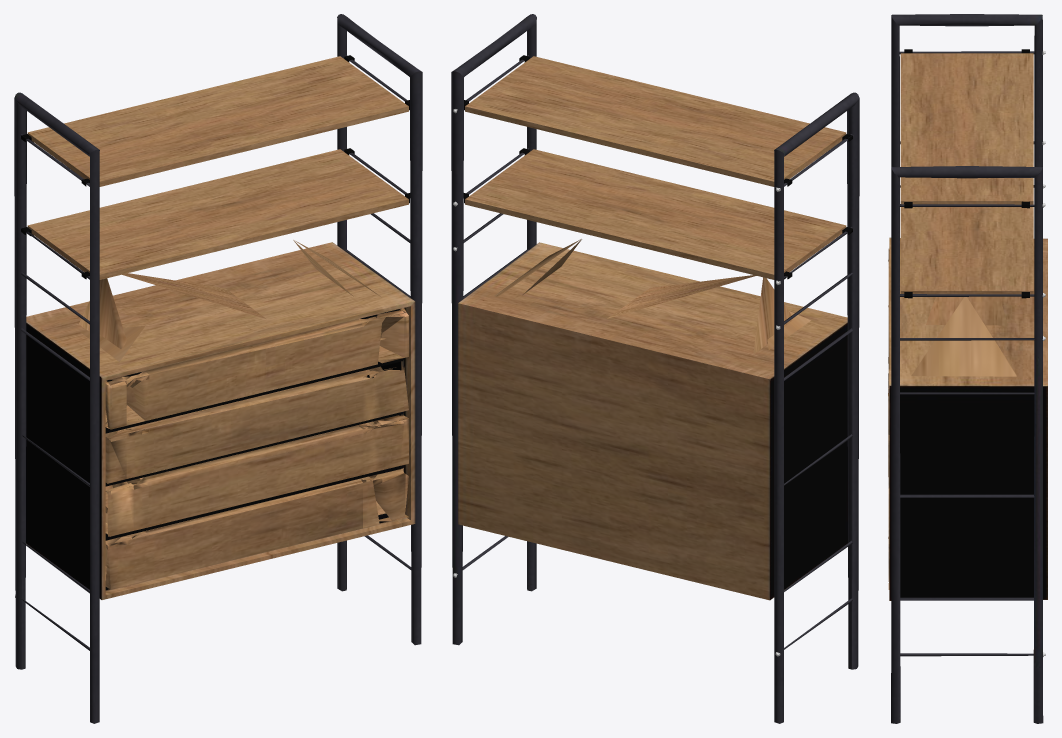
Rendered from drawer_cabinet.glb.
3 views of the same model, side by side, from view 1: azimuth 30°, elevation 25°; view 2: azimuth 150°, elevation 25°; view 3: azimuth 270°, elevation 25° (orthographic). The views are drawn at different scales.
Visible parts, largest first — view 1: drawer_cabinet, drawer_cabinet_drawer_01, drawer_cabinet_drawer_03, drawer_cabinet_drawer_04, drawer_cabinet_drawer_02; view 2: drawer_cabinet, drawer_cabinet_drawer_01; view 3: drawer_cabinet, drawer_cabinet_drawer_01.
Part boxes in pixels (left/top/right/bottom): drawer_cabinet: left=14, top=14, right=422, bottom=723; drawer_cabinet_drawer_01: left=79, top=240, right=408, bottom=429; drawer_cabinet_drawer_03: left=105, top=376, right=408, bottom=536; drawer_cabinet_drawer_04: left=105, top=468, right=408, bottom=589; drawer_cabinet_drawer_02: left=105, top=365, right=408, bottom=483; drawer_cabinet: left=451, top=14, right=859, bottom=723; drawer_cabinet_drawer_01: left=494, top=239, right=810, bottom=354; drawer_cabinet: left=889, top=14, right=1047, bottom=723; drawer_cabinet_drawer_01: left=888, top=249, right=1016, bottom=434.
Size of the model in its own units: 1.14 by 1.88 by 0.4901.
Materials: 1 (1 with a texture image).
